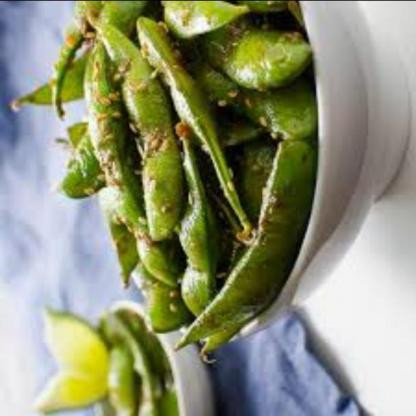beans: (33, 0, 347, 361)
